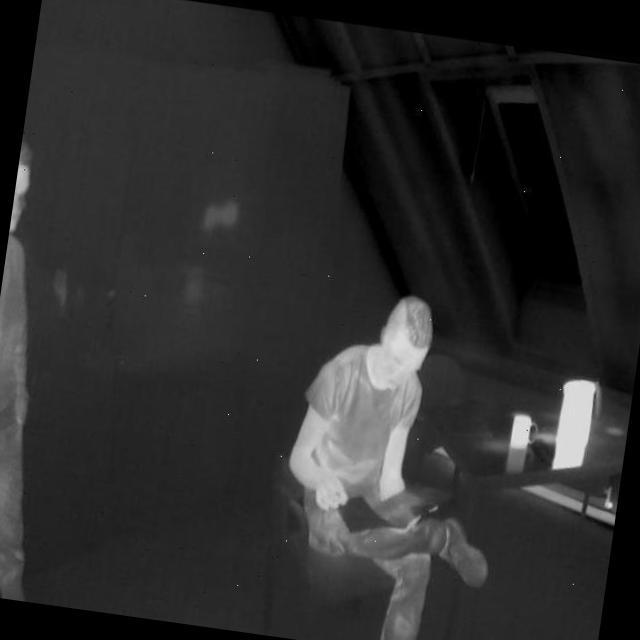person: (262, 277, 532, 640), (0, 113, 106, 603)
